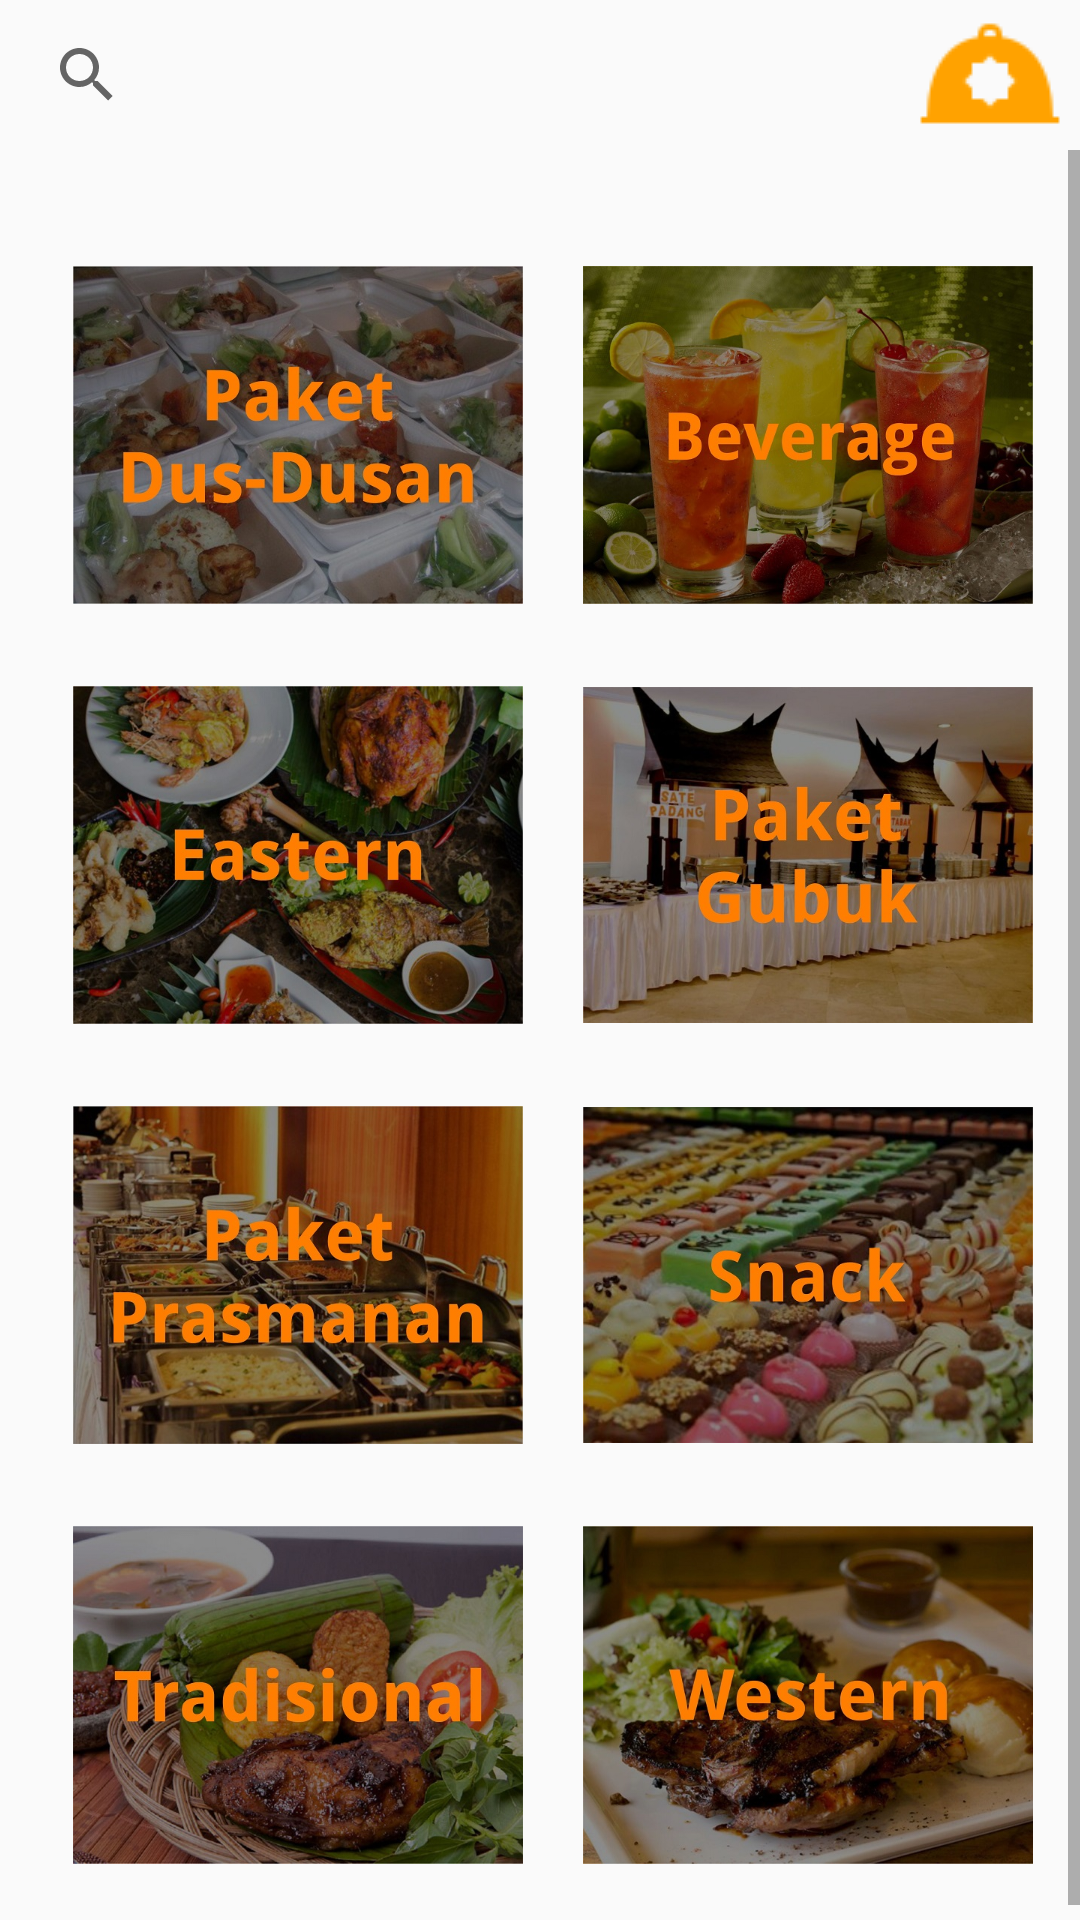

Point at icon controls on the screen. Image size 1080×1920, points as [x,y].
notiftop: [990,73]
